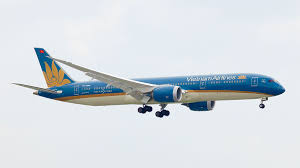maybay_dansu: (13, 46, 300, 125)
